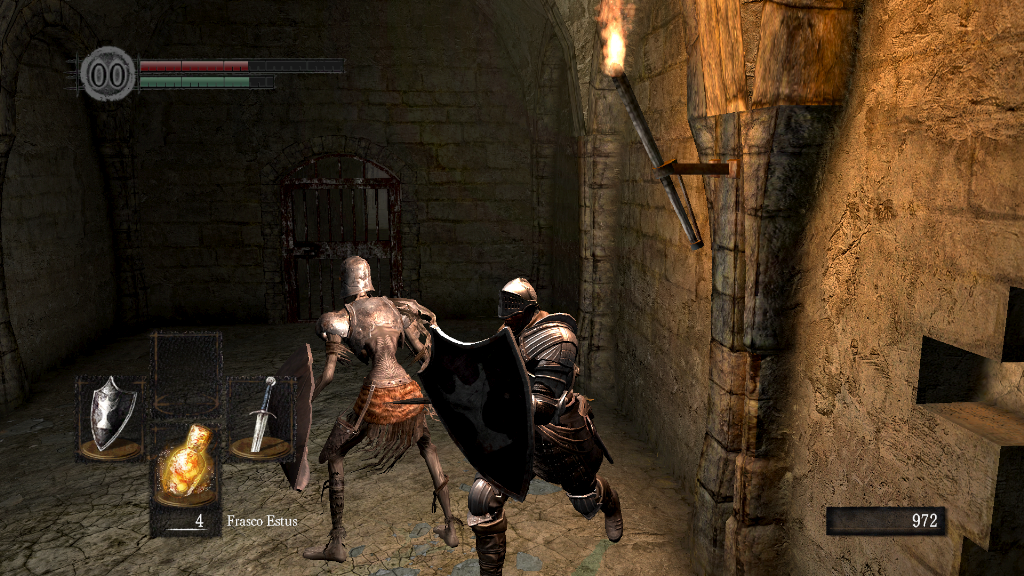health: (138, 58, 343, 71)
humanity: (80, 45, 136, 102)
player: (414, 274, 626, 576)
souls: (825, 506, 945, 536)
stamina: (138, 74, 274, 88)
undeadSoldier: (315, 255, 458, 563)
